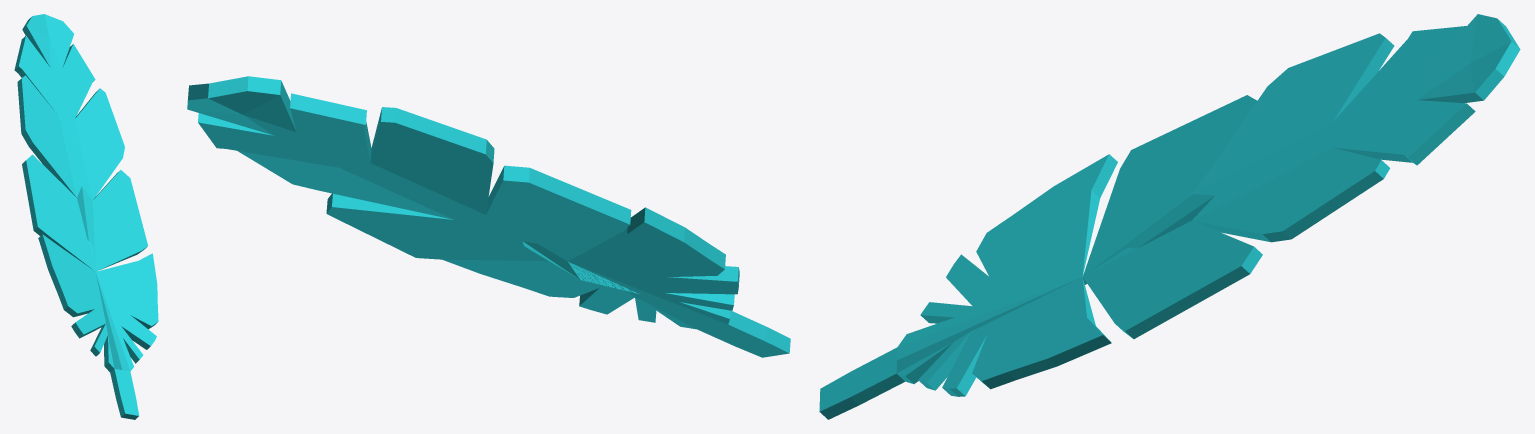
Rendered from Pluma.fbx.
3 views of the same model, side by side, from view 1: azimuth 30°, elevation 25°; view 2: azimuth 150°, elevation 25°; view 3: azimuth 270°, elevation 25° (orthographic). The views are drawn at different scales.
Visible parts, largest first — view 1: Plane.001; view 2: Plane.001; view 3: Plane.001.
Boxes of the visible parts, bbox=[...] form: Plane.001: bbox=[14, 14, 158, 419]; Plane.001: bbox=[187, 76, 790, 357]; Plane.001: bbox=[819, 14, 1520, 419].
Bounding box in the file's own units: 154 × 259 × 349.
